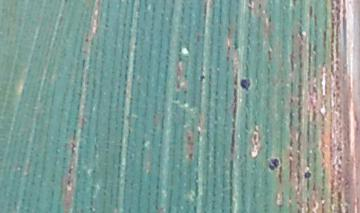tarspot: (269, 158, 280, 170), (241, 79, 250, 91), (199, 74, 206, 82), (305, 171, 312, 178)
